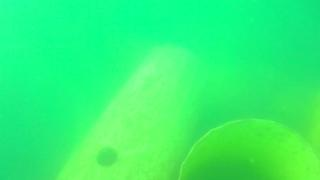pipe: (55, 39, 209, 180), (177, 118, 320, 180), (307, 105, 320, 160)
